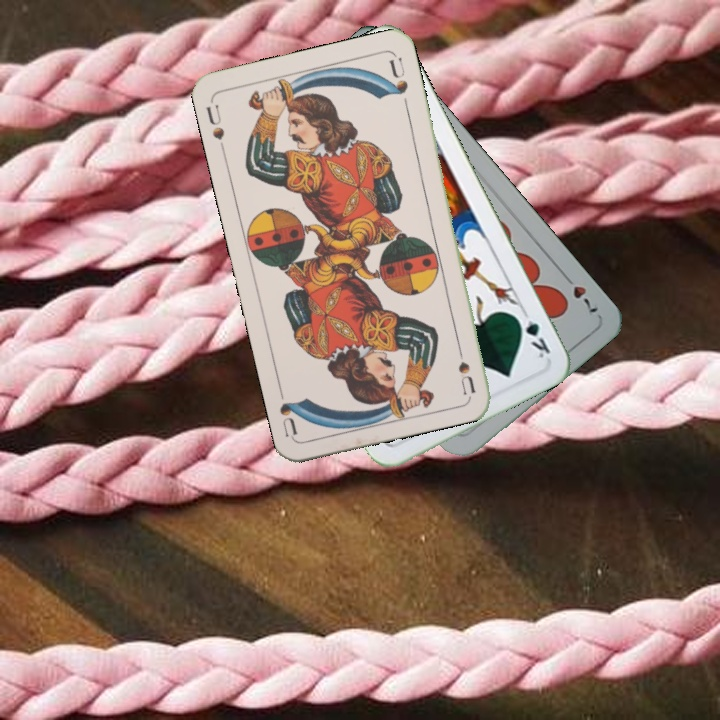GK: (511, 306, 553, 361)
H7: (558, 269, 601, 318)
SU: (452, 337, 478, 396), (202, 100, 227, 143)
